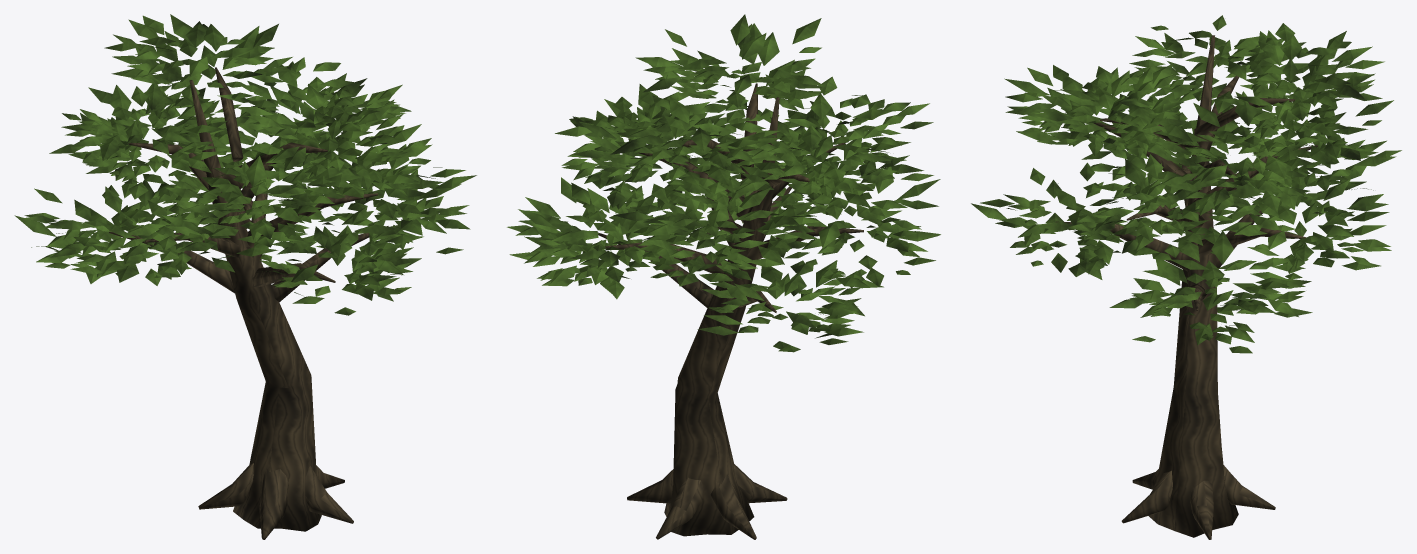
File: tree0.glb
The picture shows the model from 3 angles, left to right: view 1: azimuth 30°, elevation 25°; view 2: azimuth 150°, elevation 25°; view 3: azimuth 270°, elevation 25°; orthographic projection.
Parts seen in each view (by area): view 1: tree0; view 2: tree0; view 3: tree0.
Boxes of the visible parts, <box> form: tree0: <box>14,14,476,539</box>; tree0: <box>507,14,940,539</box>; tree0: <box>971,15,1401,539</box>.
Bounding box in the file's own units: 6.97 × 7.52 × 6.59.
Materials: 2 (2 with a texture image).
